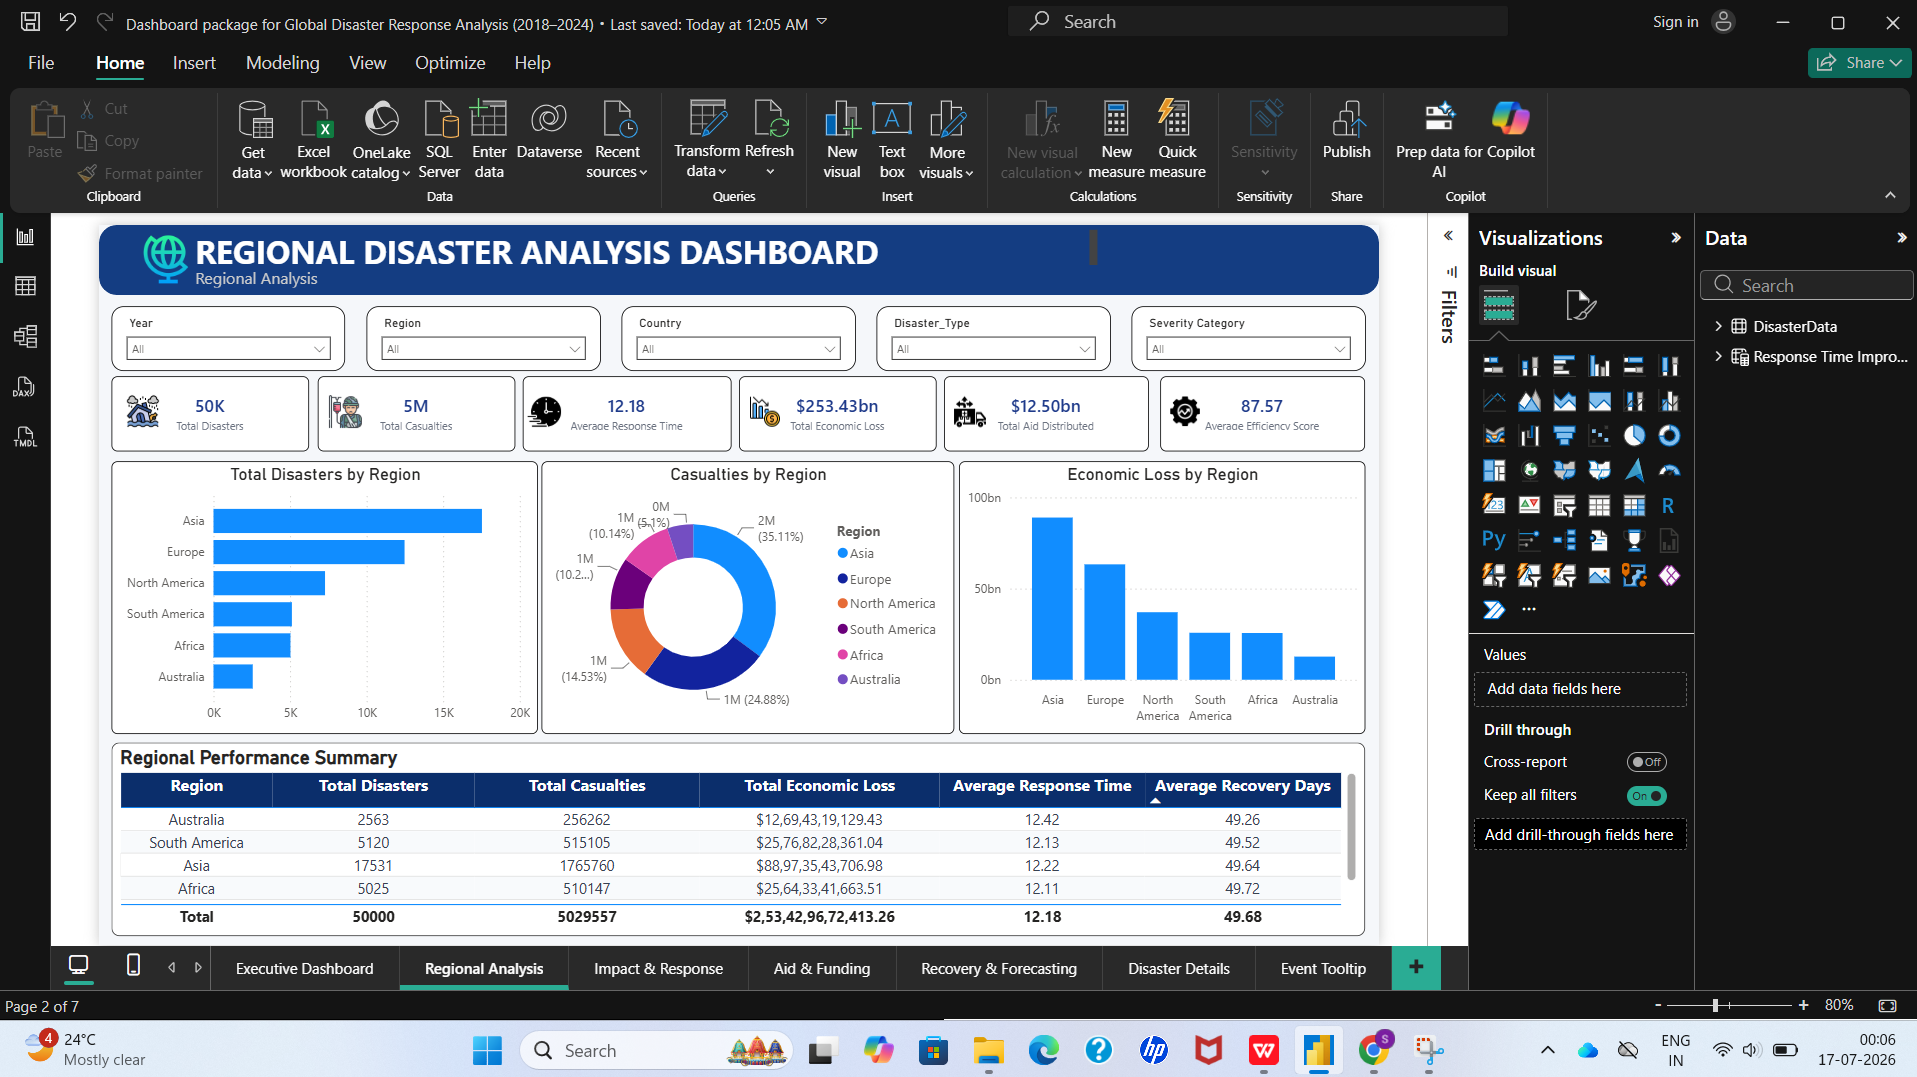

This screenshot's page, from the dashboard's own definition file:
{"tool":"powerbi","page":{"name":"Regional Analysis","canvas":[1280,720],"ordinal":1},"visuals":[{"type":"tableEx","title":"Regional Performance Summary","fields":{"Values":["DisasterData.Region","DisasterData.Total Disasters","DisasterData.Total Casualties","DisasterData.Total Economic Loss","DisasterData.Average Response Time","DisasterData.Average Recovery Days"]},"box":[12.5,517.5,1253.8,193.8],"z":0},{"type":"textbox","box":[80,33.8,408.8,36.2],"z":1000},{"type":"clusteredBarChart","fields":{"Category":["DisasterData.Region"],"Y":["DisasterData.Total Disasters"]},"box":[12.5,236.2,426.2,272.5],"z":2000},{"type":"clusteredColumnChart","title":"Economic Loss by Region","fields":{"Category":["DisasterData.Region"],"Y":["Sum(DisasterData.economic_loss_usd)"]},"box":[860,236.2,406.2,272.5],"z":3000},{"type":"donutChart","title":"Casualties by Region","fields":{"Category":["DisasterData.Region"],"Y":["DisasterData.Total Casualties"]},"box":[442.5,236.2,412.5,272.5],"z":4000},{"type":"shape","box":[0,0,1280,70],"z":5000},{"type":"textbox","box":[91.2,0,912.5,48.8],"z":6000},{"type":"image","box":[42.5,0,48.8,68.8],"z":7000},{"type":"textbox","box":[91.2,36.2,300,31.2],"z":8000},{"type":"slicer","fields":{"Values":["DisasterData.date.Variation.Date Hierarchy.Year"]},"box":[12.5,81.2,233.8,65],"z":9000},{"type":"slicer","fields":{"Values":["DisasterData.country"]},"box":[522.7,81,234.4,65],"z":10000},{"type":"slicer","fields":{"Values":["DisasterData.disaster_type"]},"box":[777.9,81,234.4,65],"z":11000},{"type":"slicer","fields":{"Values":["DisasterData.Region"]},"box":[267.5,81,234.4,65],"z":12000},{"type":"slicer","fields":{"Values":["DisasterData.Severity Category"]},"box":[1031.9,81,234.4,65],"z":13000},{"type":"cardVisual","fields":{"Data":["DisasterData.Total Disasters"]},"box":[12.3,150.9,197.5,74.8],"z":14000},{"type":"cardVisual","fields":{"Data":["DisasterData.Total Casualties"]},"box":[218.4,150.9,197.5,74.8],"z":15000},{"type":"cardVisual","fields":{"Data":["DisasterData.Total Aid Distributed"]},"box":[845.4,150.9,204.9,74.8],"z":16000},{"type":"cardVisual","fields":{"Data":["DisasterData.Average Response Time"]},"box":[423.3,150.9,208.6,74.8],"z":17000},{"type":"cardVisual","fields":{"Data":["DisasterData.Total Economic Loss"]},"box":[640.5,150.9,197.5,74.8],"z":18000},{"type":"cardVisual","fields":{"Data":["DisasterData.Average Efficiency Score"]},"box":[1061.4,150.9,204.9,74.8],"z":19000},{"type":"image","box":[27,168.1,33.1,38],"z":20000},{"type":"image","box":[228.2,168.1,35.6,38],"z":21000},{"type":"image","box":[423.3,168.1,42.9,38],"z":22000},{"type":"image","box":[650.3,168.1,31.9,38],"z":23000},{"type":"image","box":[855.2,168.1,31.9,38],"z":24000},{"type":"image","box":[1071.2,168.1,29.4,38],"z":25000}]}

Visuals, with their boxes on the page's 1280x720 design canvas (x1, y1, x2, y2). These are canvas units, not pixel positions in the 1917x1077 screenshot, which may show the page scaled, cropped or inside an application window:
"Regional Performance Summary" tableEx: BBox(12, 518, 1266, 711)
textbox: BBox(80, 34, 489, 70)
clusteredBarChart - DisasterData.Region x DisasterData.Total Disasters: BBox(12, 236, 439, 509)
"Economic Loss by Region" clusteredColumnChart: BBox(860, 236, 1266, 509)
"Casualties by Region" donutChart: BBox(442, 236, 855, 509)
shape: BBox(0, 0, 1280, 70)
textbox: BBox(91, 0, 1004, 49)
image: BBox(42, 0, 91, 69)
textbox: BBox(91, 36, 391, 67)
slicer - DisasterData.date.Variation.Date Hierarchy.Year: BBox(12, 81, 246, 146)
slicer - DisasterData.country: BBox(523, 81, 757, 146)
slicer - DisasterData.disaster_type: BBox(778, 81, 1012, 146)
slicer - DisasterData.Region: BBox(268, 81, 502, 146)
slicer - DisasterData.Severity Category: BBox(1032, 81, 1266, 146)
cardVisual - DisasterData.Total Disasters: BBox(12, 151, 210, 226)
cardVisual - DisasterData.Total Casualties: BBox(218, 151, 416, 226)
cardVisual - DisasterData.Total Aid Distributed: BBox(845, 151, 1050, 226)
cardVisual - DisasterData.Average Response Time: BBox(423, 151, 632, 226)
cardVisual - DisasterData.Total Economic Loss: BBox(640, 151, 838, 226)
cardVisual - DisasterData.Average Efficiency Score: BBox(1061, 151, 1266, 226)
image: BBox(27, 168, 60, 206)
image: BBox(228, 168, 264, 206)
image: BBox(423, 168, 466, 206)
image: BBox(650, 168, 682, 206)
image: BBox(855, 168, 887, 206)
image: BBox(1071, 168, 1101, 206)
